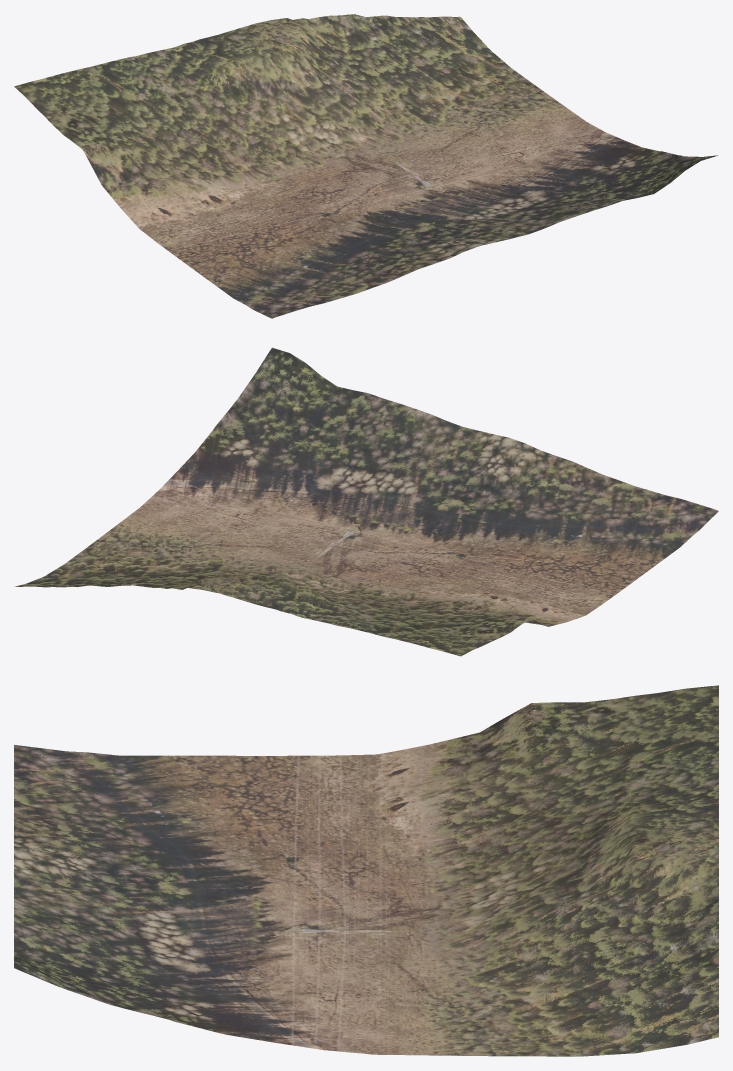
File: CM_Terrain_24491278_6816517.fbx
3 renders of one model, top to bottom at view 1: azimuth 30°, elevation 25°; view 2: azimuth 150°, elevation 25°; view 3: azimuth 270°, elevation 25°, orthographic. The views are drawn at different scales.
Parts seen in each view (by area): view 1: CM_Terrain_24491278_6816517_LOD0; view 2: CM_Terrain_24491278_6816517_LOD0; view 3: CM_Terrain_24491278_6816517_LOD0.
Part boxes in pixels (x1,y1,x2,y2): CM_Terrain_24491278_6816517_LOD0: (14, 14, 717, 318); CM_Terrain_24491278_6816517_LOD0: (14, 347, 718, 656); CM_Terrain_24491278_6816517_LOD0: (14, 685, 718, 1056).
Size of what is drawn, in the model's own units: 205 by 28.35 by 205.
